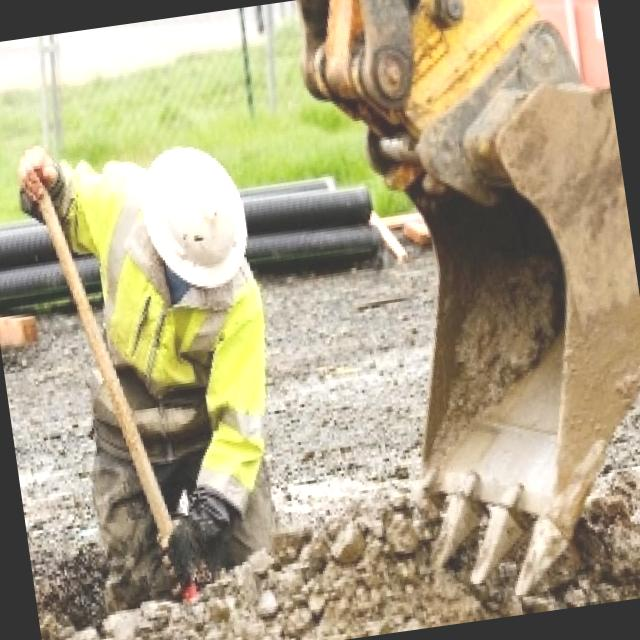helmet: (130, 130, 257, 303)
vest: (48, 124, 284, 538)
